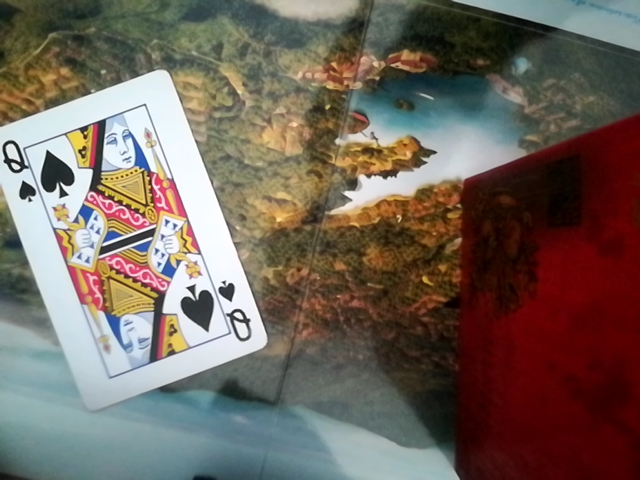ht q: (2, 65, 270, 410)
